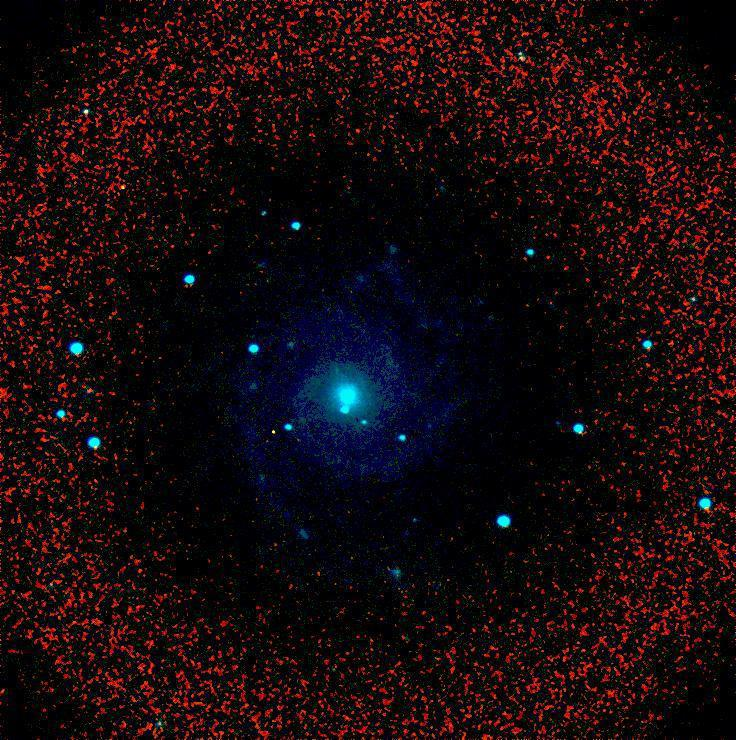star: (260, 417, 290, 447)
